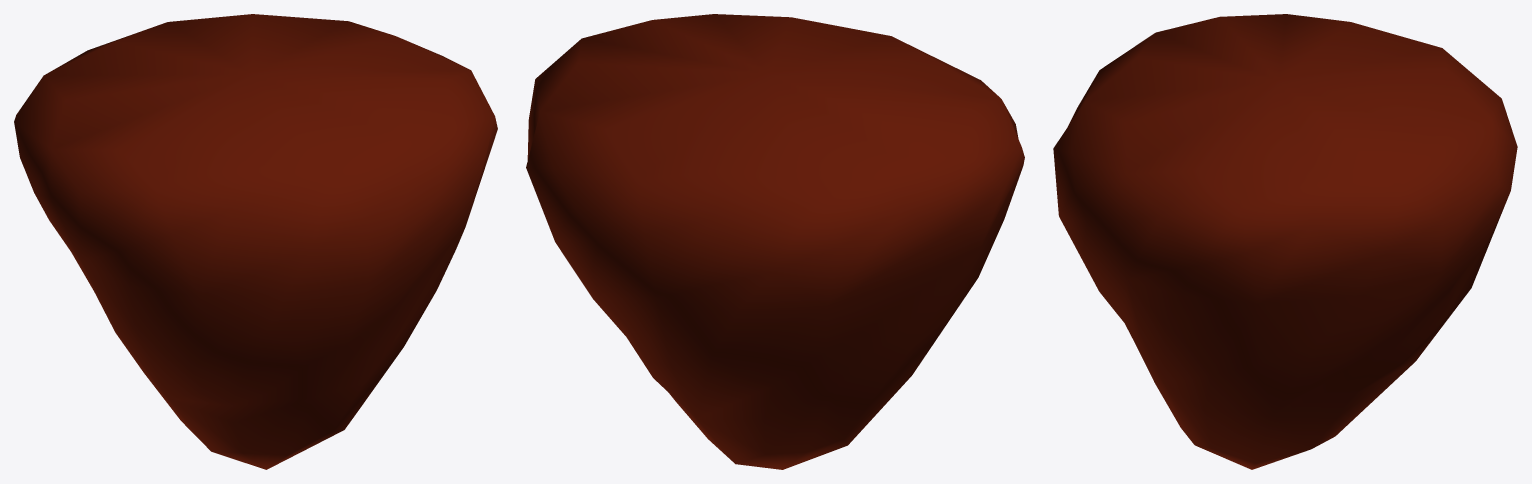
The model's file is Rock1.fbx.
3 views of the same model, side by side, from view 1: azimuth 30°, elevation 25°; view 2: azimuth 150°, elevation 25°; view 3: azimuth 270°, elevation 25° (orthographic). The views are drawn at different scales.
Visible parts, largest first — view 1: Object_3; view 2: Object_3; view 3: Object_3.
Boxes of the visible parts, <box> form: Object_3: <box>14,14,497,469</box>; Object_3: <box>526,14,1024,469</box>; Object_3: <box>1053,14,1517,469</box>.
Size of the model in its own units: 804 by 698 by 756.
